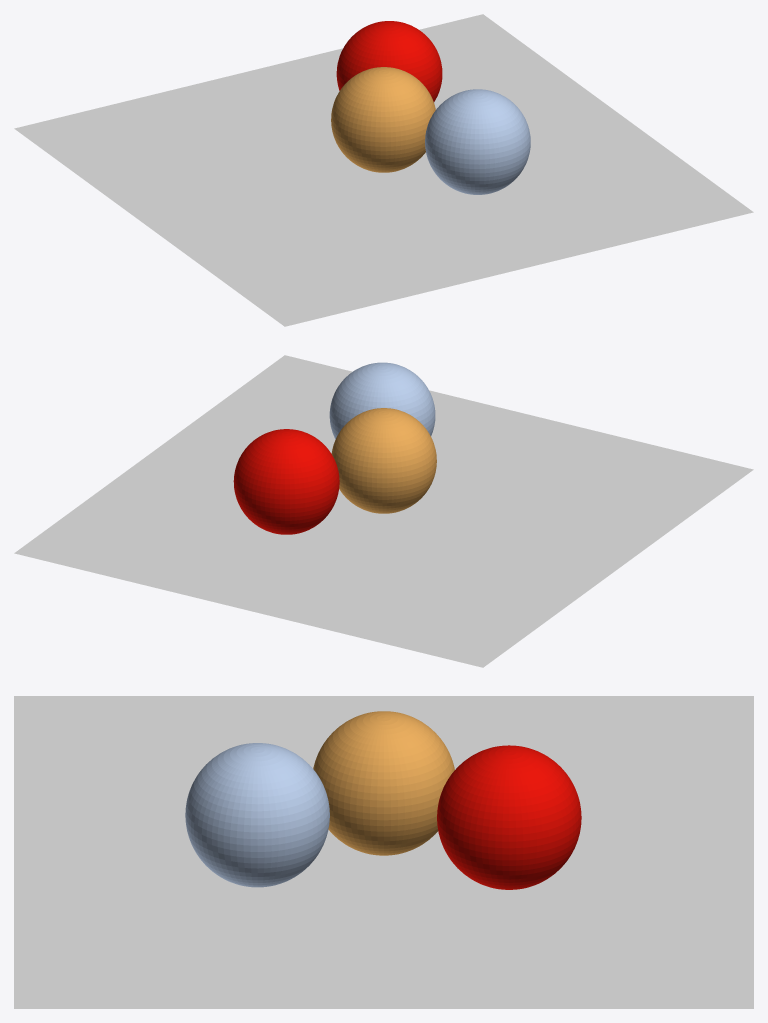
The model's file is 3_balls.glb.
The picture shows the model from 3 angles, top to bottom: view 1: azimuth 30°, elevation 25°; view 2: azimuth 150°, elevation 25°; view 3: azimuth 270°, elevation 25°; orthographic projection. The views are drawn at different scales.
Parts seen in each view (by area): view 1: Plane, Sphere.001, Sphere, Sphere.002; view 2: Plane, Sphere.002, Sphere, Sphere.001; view 3: Plane, Sphere.001, Sphere.002, Sphere.
Part boxes in pixels (x1,y1,x2,y2): Plane: (14,14,753,326); Sphere.001: (425,89,530,194); Sphere: (331,67,435,172); Sphere.002: (336,21,442,101); Plane: (14,355,753,667); Sphere.002: (233,429,339,534); Sphere: (331,408,436,513); Sphere.001: (329,362,435,438); Plane: (14,696,753,1008); Sphere.001: (185,743,329,887); Sphere.002: (437,745,581,889); Sphere: (313,711,454,855).
Size of the model in its own units: 10.23 by 2.05 by 10.23.
